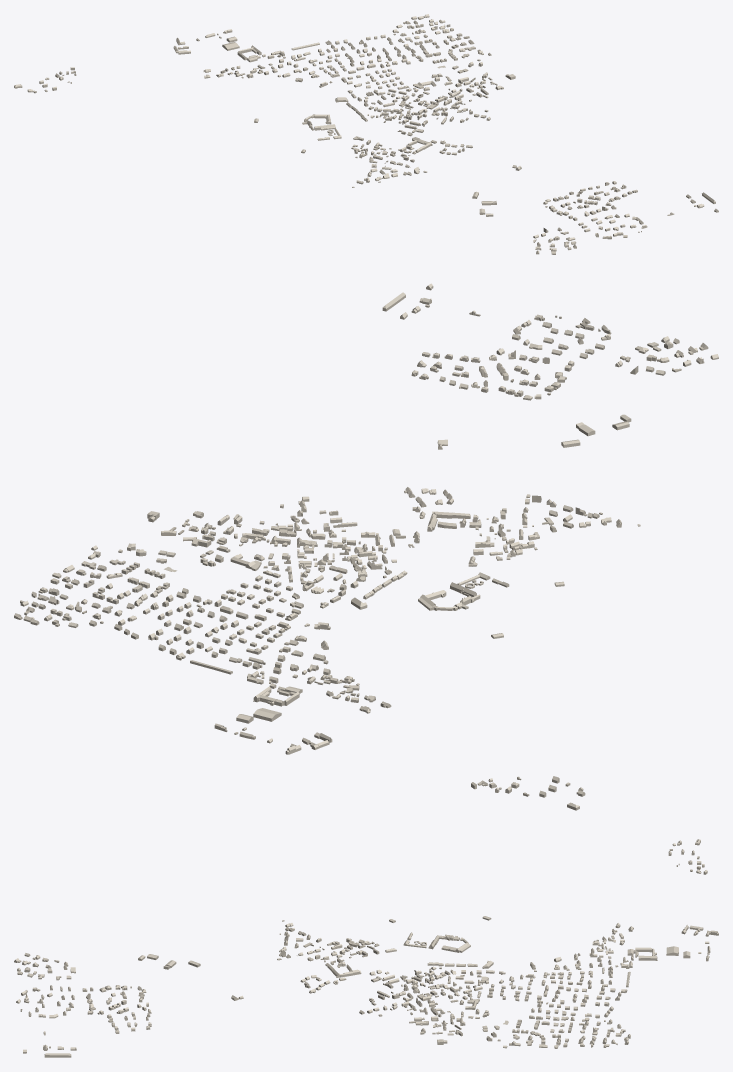
3 views of the same model, one above another, from view 1: azimuth 30°, elevation 25°; view 2: azimuth 150°, elevation 25°; view 3: azimuth 270°, elevation 25° (orthographic). The views are drawn at different scales.
Bounding box in the file's own units: 1303 × 27.19 × 1775.
